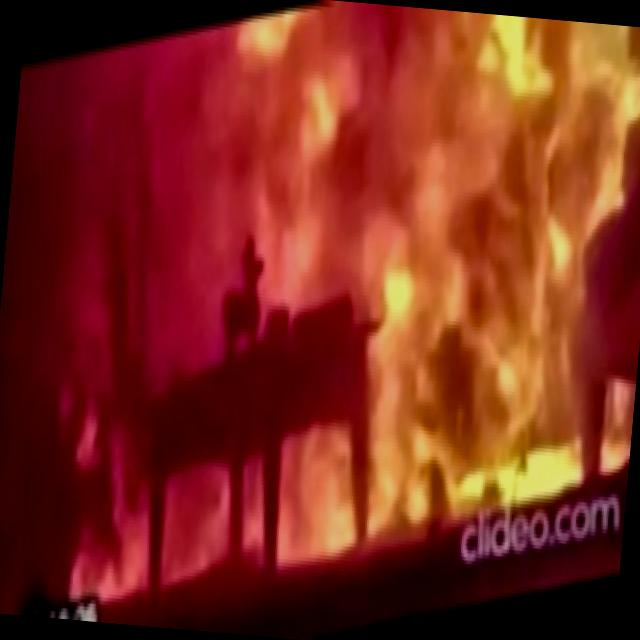fire: (58, 0, 640, 626)
